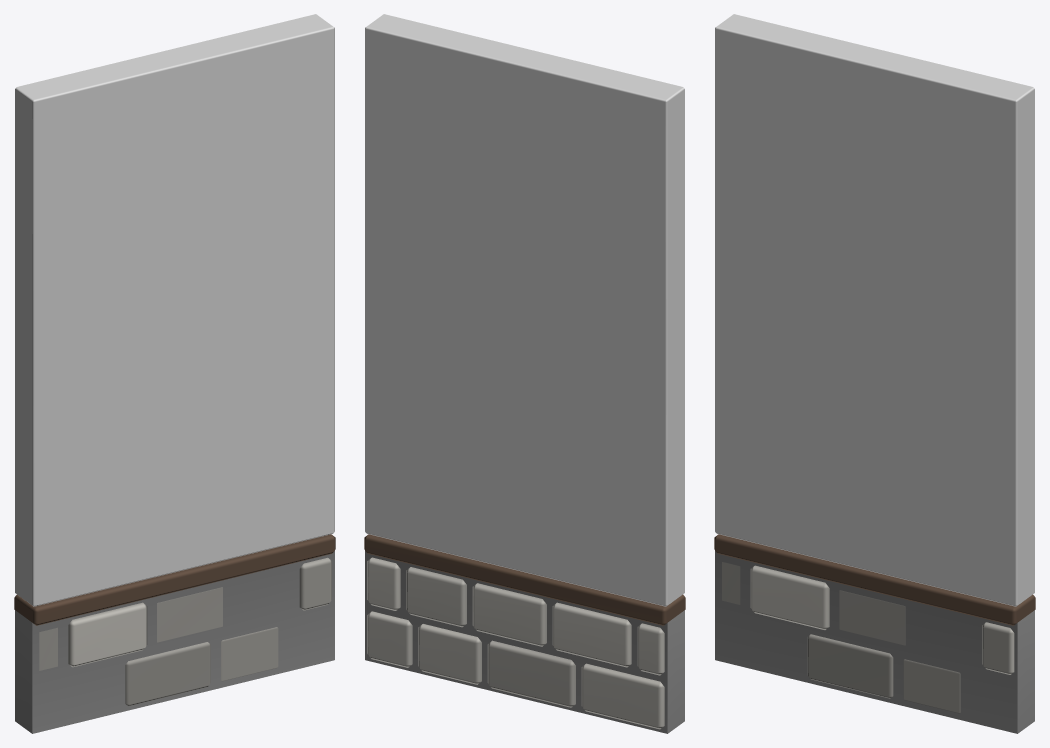
The model's file is plaster-wall-a.glb.
The picture shows the model from 3 angles, left to right: view 1: azimuth 30°, elevation 25°; view 2: azimuth 150°, elevation 25°; view 3: azimuth 330°, elevation 25°; orthographic projection.
Visible parts, largest first — view 1: body; view 2: body; view 3: body.
Boxes of the visible parts, x1,y1,x2,y2 form: body: [14, 14, 335, 733]; body: [364, 14, 685, 733]; body: [714, 14, 1035, 733].
Size of what is drawn, in the model's own units: 1 by 2 by 0.1311.
